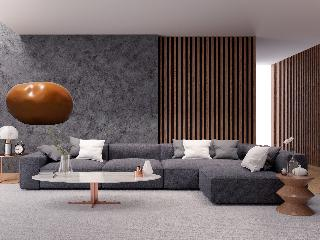potato: (4, 79, 79, 127)
